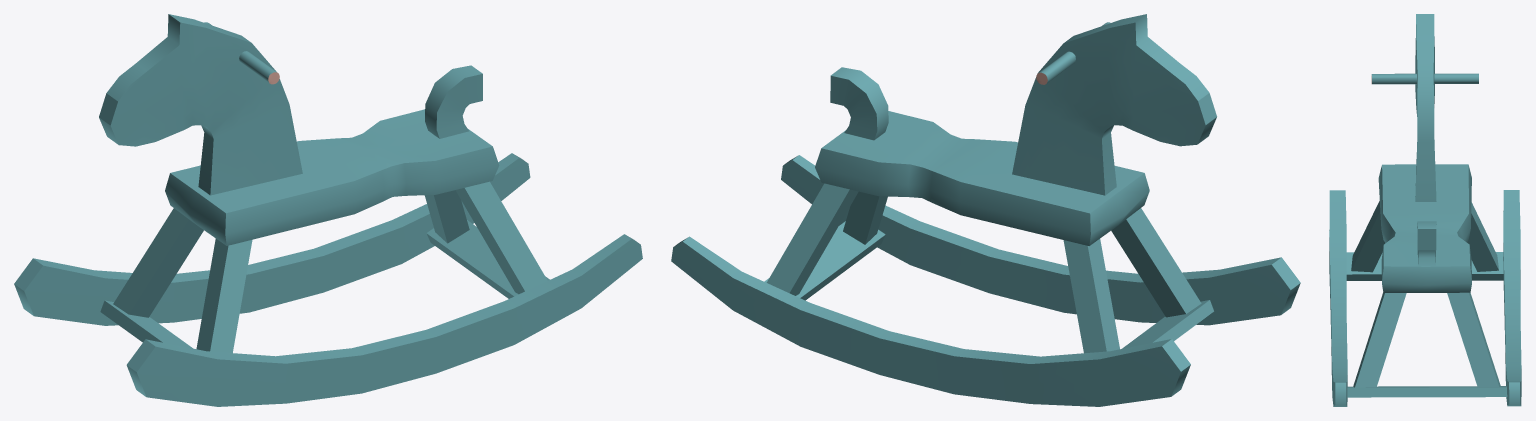
Rendered from Horse_2.glb.
The picture shows the model from 3 angles, left to right: view 1: azimuth 30°, elevation 25°; view 2: azimuth 150°, elevation 25°; view 3: azimuth 270°, elevation 25°; orthographic projection. The views are drawn at different scales.
Visible parts, largest first — view 1: Horse_2; view 2: Horse_2; view 3: Horse_2.
Boxes of the visible parts, x1,y1,x2,y2 form: Horse_2: (14,14,642,406); Horse_2: (671,14,1300,406); Horse_2: (1329,14,1521,406).
Size of the model in its own units: 1.35 by 0.918 by 0.5635.
Materials: 1 (1 with a texture image).
